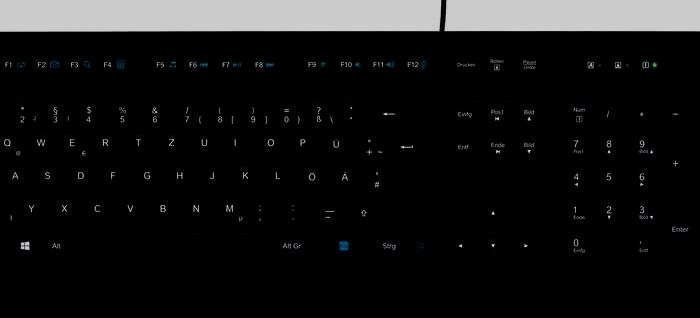0: (275, 97, 304, 126)
1: (1, 98, 15, 126)
2: (11, 98, 40, 126)
3: (44, 97, 73, 126)
4: (77, 97, 106, 126)
5: (109, 97, 139, 126)
6: (142, 98, 172, 126)
7: (176, 97, 205, 126)
8: (209, 97, 238, 126)
9: (242, 97, 271, 126)
a: (3, 163, 32, 192)
accent: (340, 97, 369, 126)
ae: (333, 162, 361, 192)
alt-left: (41, 230, 76, 258)
altgr-right: (273, 229, 309, 258)
b: (151, 196, 180, 224)
c: (85, 196, 114, 224)
caret: (1, 99, 14, 126)
comma: (250, 196, 279, 225)
d: (69, 163, 97, 192)
del: (374, 97, 429, 125)
e: (61, 129, 89, 159)
enter: (391, 130, 428, 191)
f: (102, 163, 130, 191)
g: (135, 163, 163, 191)
h: (168, 163, 196, 191)
hash: (365, 162, 394, 192)
i: (225, 130, 254, 158)
j: (201, 163, 229, 191)
k: (234, 163, 262, 191)
keyboard: (1, 33, 700, 280)
l: (267, 163, 295, 191)
less: (1, 196, 16, 225)
m: (217, 196, 246, 225)
minus: (316, 196, 345, 225)
n: (184, 196, 212, 224)
o: (258, 130, 287, 159)
oe: (299, 163, 328, 192)
p: (291, 130, 320, 159)
plus: (357, 130, 387, 159)
point: (283, 196, 312, 224)
q: (1, 130, 24, 159)
r: (93, 130, 122, 159)
s: (36, 163, 64, 192)
shift-left: (1, 197, 19, 225)
shift-lock: (1, 164, 28, 192)
shift-right: (350, 196, 428, 225)
space: (81, 229, 271, 259)
ss: (307, 97, 336, 126)
strg-left: (1, 229, 29, 258)
strg-right: (372, 229, 431, 258)
t: (127, 130, 154, 159)
tab: (1, 130, 22, 159)
u: (192, 130, 221, 159)
ue: (323, 129, 353, 159)
v: (119, 196, 147, 224)
w: (28, 129, 56, 159)
x: (53, 196, 81, 224)
y: (20, 197, 48, 224)
z: (159, 130, 188, 159)
